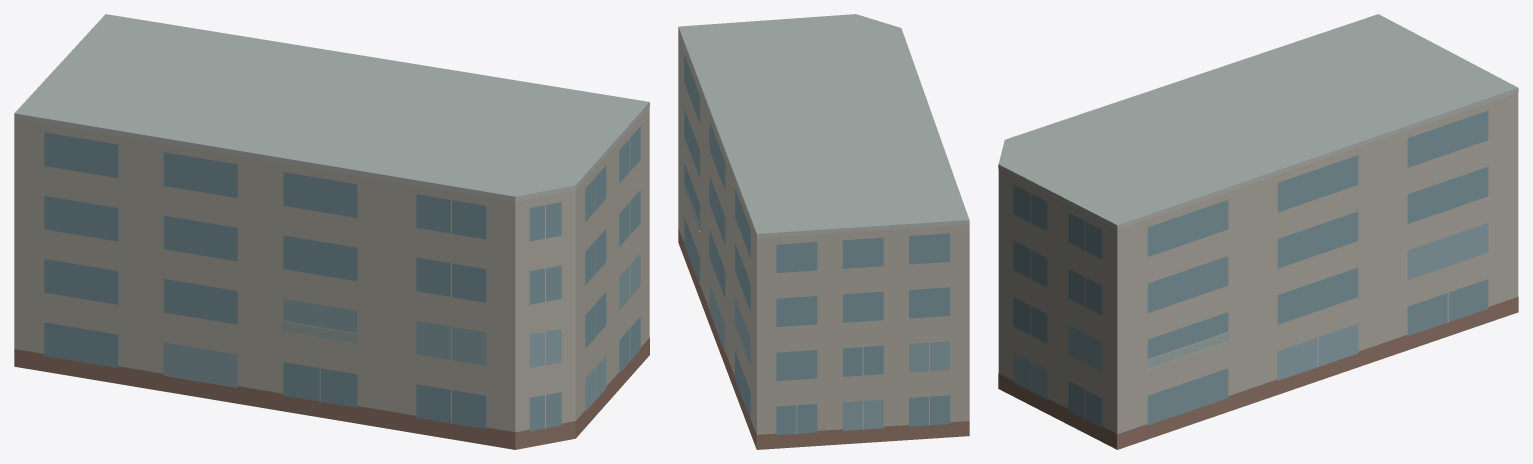
The model's file is survey-upis-32950015.glb.
The picture shows the model from 3 angles, left to right: view 1: azimuth 30°, elevation 25°; view 2: azimuth 150°, elevation 25°; view 3: azimuth 270°, elevation 25°; orthographic projection. The views are drawn at different scales.
Visible parts, largest first — view 1: survey-upis-32950015.tmp; view 2: survey-upis-32950015.tmp; view 3: survey-upis-32950015.tmp.
Boxes of the visible parts, x1,y1,x2,y2 form: survey-upis-32950015.tmp: (14,14,649,449); survey-upis-32950015.tmp: (678,14,969,449); survey-upis-32950015.tmp: (998,14,1518,449).
Bounding box in the file's own units: 24.63 × 12.2 × 25.61.
